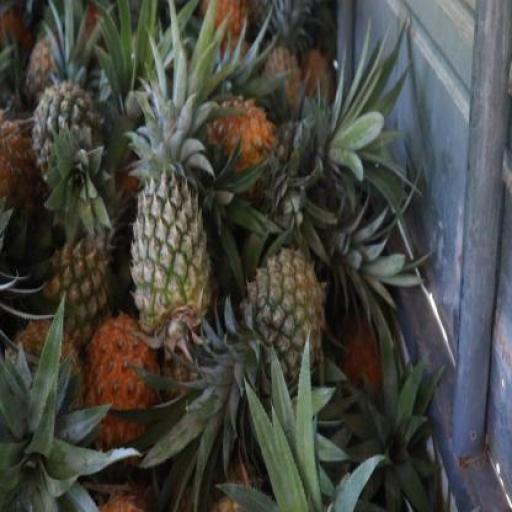Pineapple - v8 v1: (80, 310, 155, 459), (200, 90, 278, 172)
